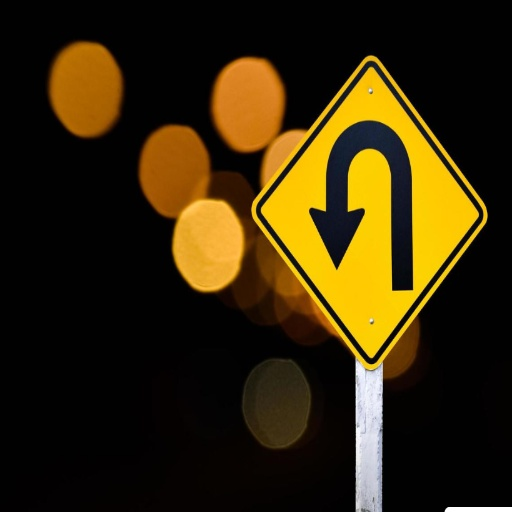U turn: (242, 82, 469, 319)
